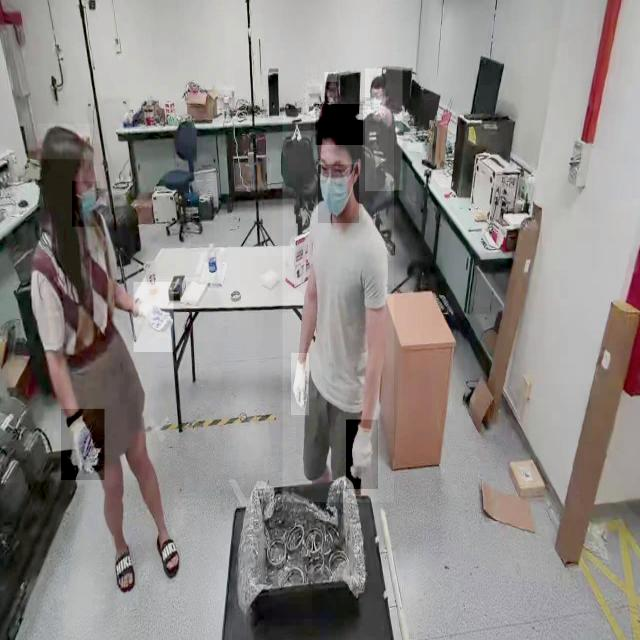face_mask: (318, 165, 359, 223), (72, 181, 100, 227), (372, 89, 386, 118)
face_nomask: (327, 87, 337, 104)
hand_glove: (61, 409, 105, 481), (134, 282, 174, 352), (346, 420, 378, 490), (291, 353, 309, 416)
head_nohelmet: (37, 124, 95, 160), (316, 104, 364, 146), (370, 75, 386, 88), (324, 72, 338, 83)
person: (26, 115, 193, 598), (282, 109, 394, 503), (365, 69, 403, 191)
